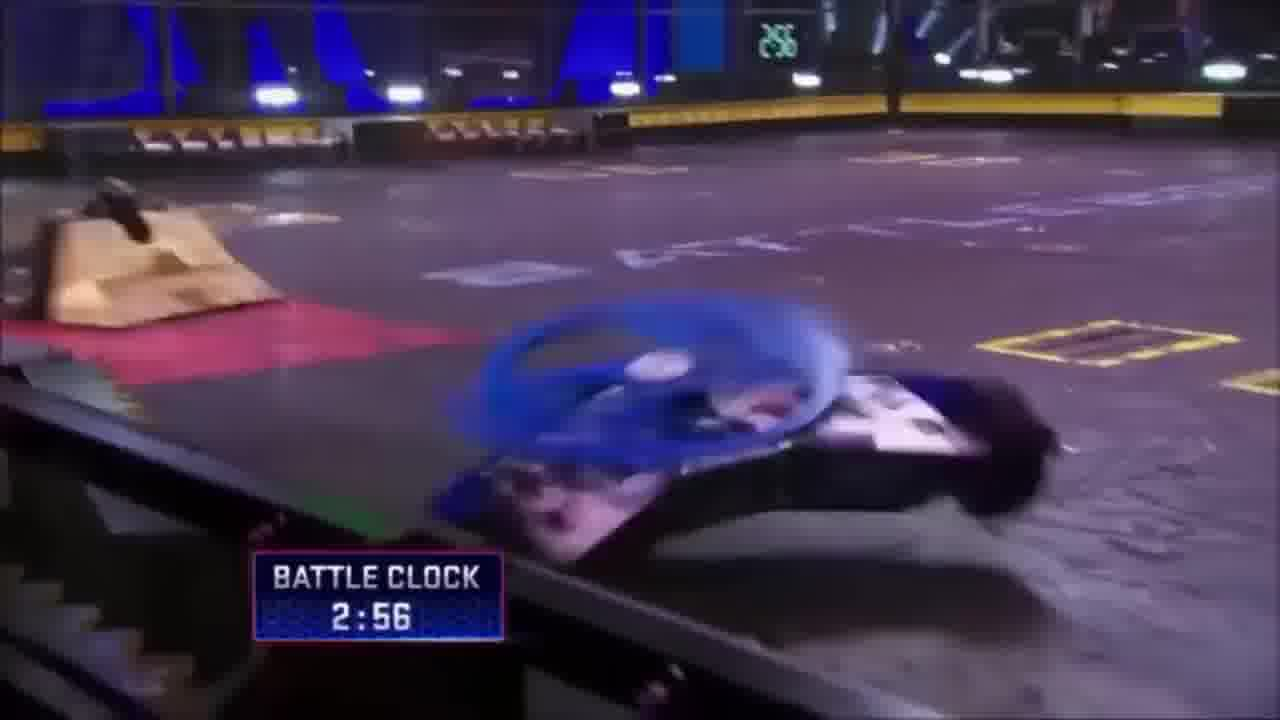combatbot: (423, 284, 1063, 578), (0, 173, 284, 331)
